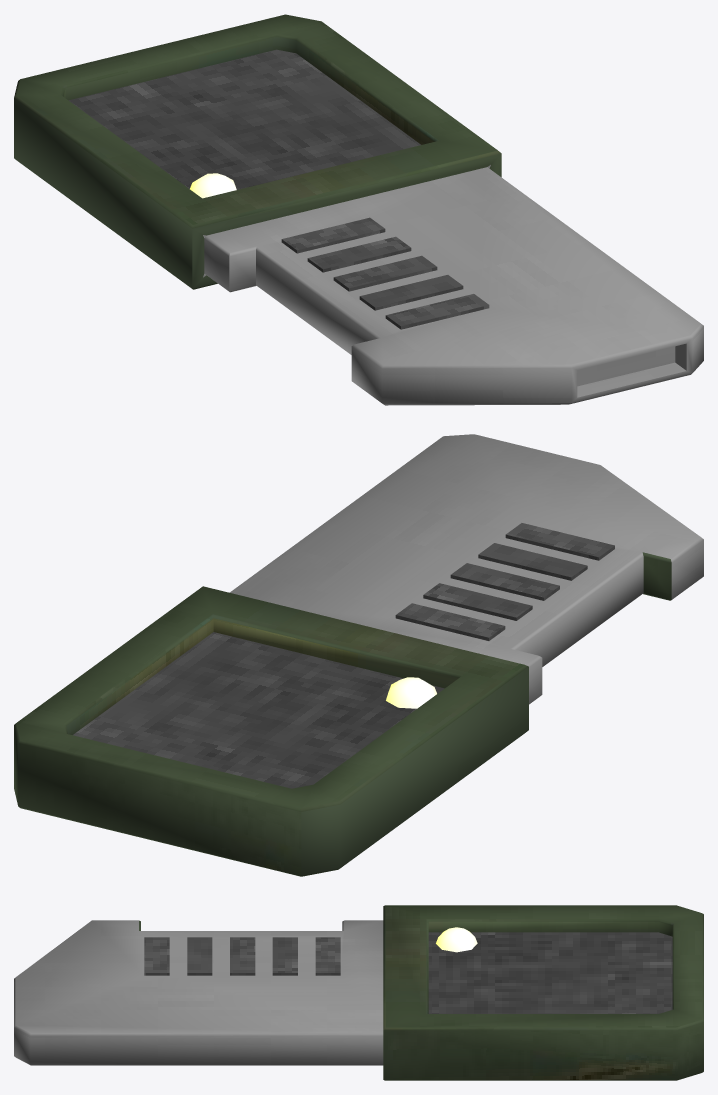
File: key.glb
3 views of the same model, one above another, from view 1: azimuth 30°, elevation 25°; view 2: azimuth 150°, elevation 25°; view 3: azimuth 270°, elevation 25° (orthographic). The views are drawn at different scales.
Parts seen in each view (by area): view 1: Key; view 2: Key; view 3: Key.
Part boxes in pixels (<box>): Key: <box>14,14,703,405</box>; Key: <box>14,434,703,876</box>; Key: <box>14,905,703,1080</box>.
Bounding box in the file's own units: 0.1013 × 0.0207 × 0.2381.
Materials: 4 (3 with a texture image).
